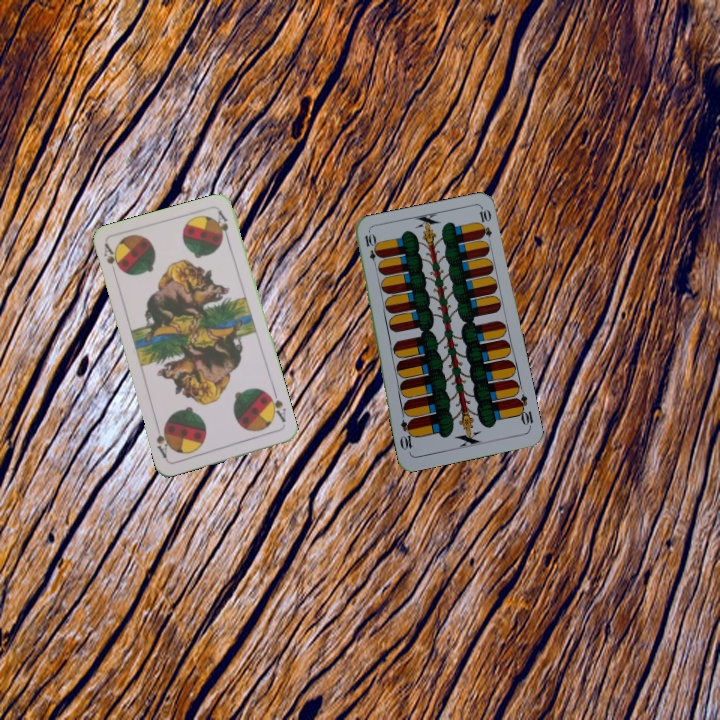E10: (511, 391, 536, 431), (361, 230, 381, 270)
SA: (99, 240, 123, 280), (263, 388, 288, 425)
